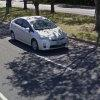Car: (4, 10, 70, 54)
